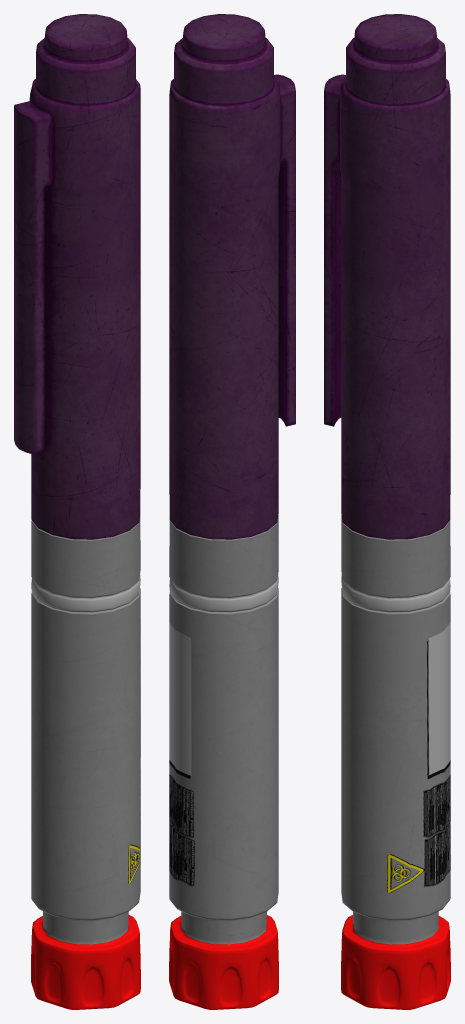
Rendered from medic_stim.glb.
3 views of the same model, side by side, from view 1: azimuth 30°, elevation 25°; view 2: azimuth 210°, elevation 25°; view 3: azimuth 330°, elevation 25° (orthographic).
Parts seen in each view (by area): view 1: StimBase; view 2: StimBase; view 3: StimBase.
Part boxes in pixels (x1=…): StimBase: x1=14, y1=14, x2=140, y2=1009; StimBase: x1=169, y1=14, x2=295, y2=1009; StimBase: x1=324, y1=14, x2=450, y2=1009.
Size of the model in its own units: 0.0277 by 0.2174 by 0.0233.
1 material, 1 textured.
